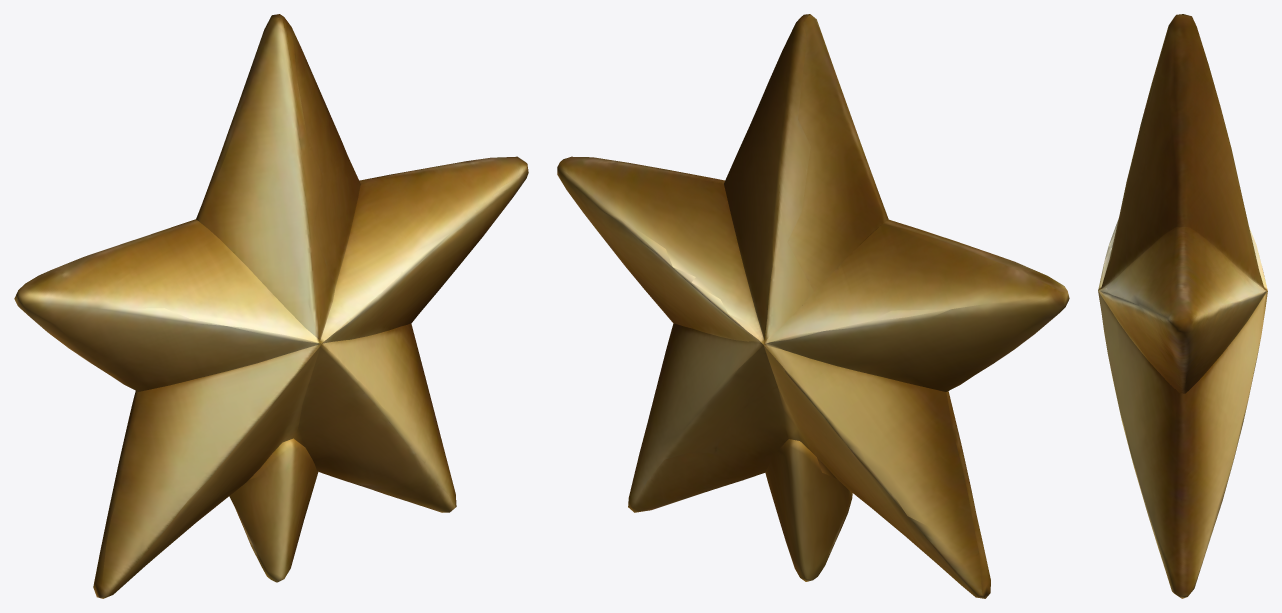
The model's file is star.glb.
The picture shows the model from 3 angles, left to right: view 1: azimuth 30°, elevation 25°; view 2: azimuth 150°, elevation 25°; view 3: azimuth 270°, elevation 25°; orthographic projection. The views are drawn at different scales.
Parts seen in each view (by area): view 1: model; view 2: model; view 3: model.
Boxes of the visible parts, <box> form: model: <box>14,14,528,598</box>; model: <box>557,14,1069,598</box>; model: <box>1098,14,1267,598</box>.
Bounding box in the file's own units: 1.79 × 1.9 × 0.55.
Materials: 1 (1 with a texture image).
